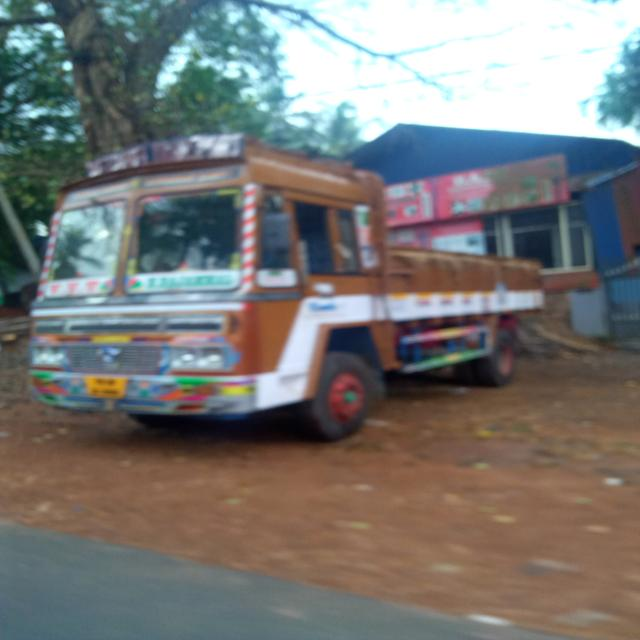Truck: (7, 124, 557, 428)
